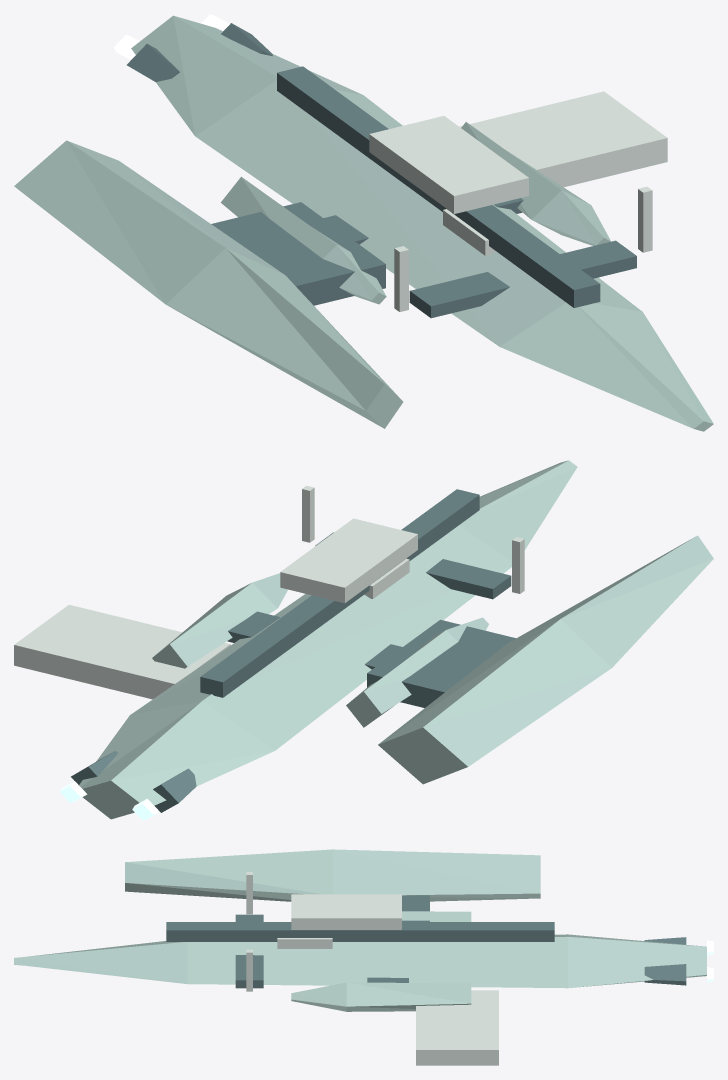
3 views of the same model, one above another, from view 1: azimuth 30°, elevation 25°; view 2: azimuth 150°, elevation 25°; view 3: azimuth 270°, elevation 25° (orthographic). The views are drawn at different scales.
Bounding box in the file's own units: 6.46 × 1.33 × 10.61.
